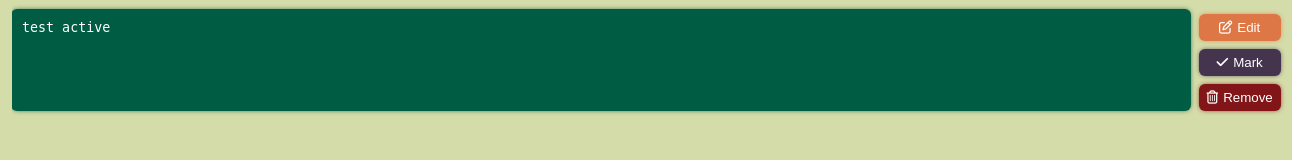
it: [todoBox.tsx] › should contain 1 textarea and 3 buttons (Save,Mark,Remove) for active todo in edit mode
Click the button "Edit": point(1240, 28) [1200, 15, 1280, 40]
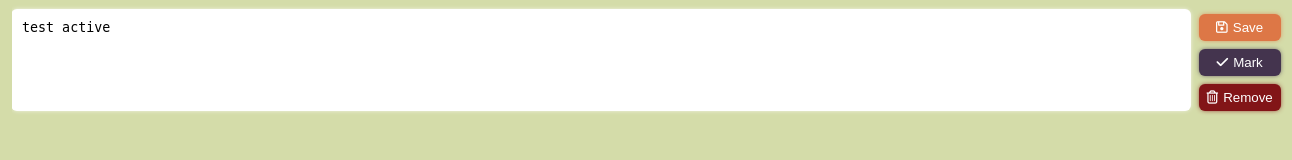
Expected: the number of text boxes is 1, [12, 10, 1190, 110]
Result: the element showing "Save" is shown at [1216, 20, 1263, 35]
